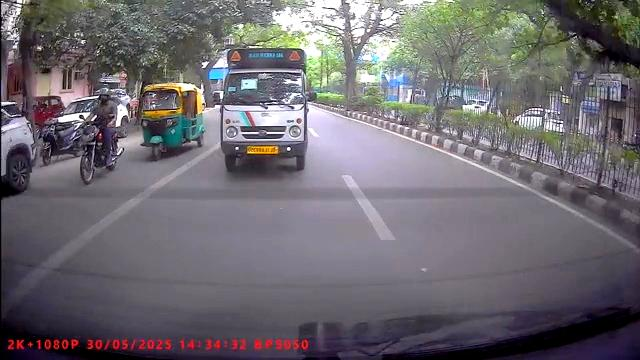motorcycle_with_helmet: (77, 87, 124, 186)
